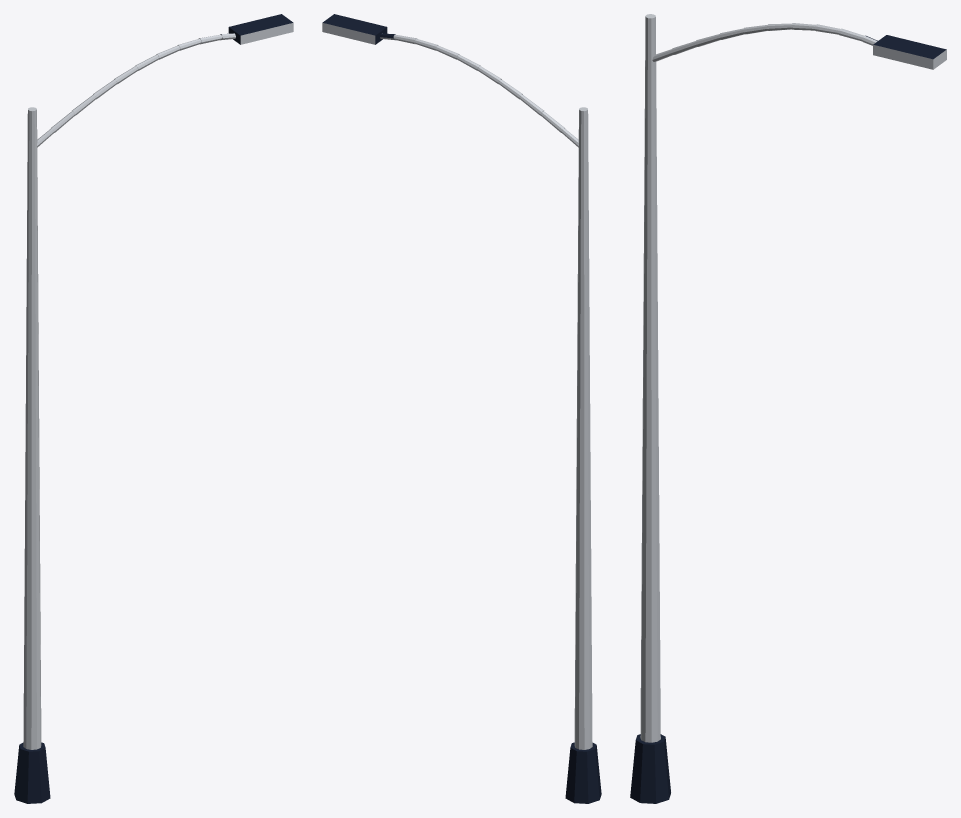
Rendered from highway_cobra_light_single.glb.
The picture shows the model from 3 angles, left to right: view 1: azimuth 30°, elevation 25°; view 2: azimuth 150°, elevation 25°; view 3: azimuth 330°, elevation 25°; orthographic projection. The views are drawn at different scales.
Parts seen in each view (by area): view 1: HighwayLight; view 2: HighwayLight; view 3: HighwayLight.
Boxes of the visible parts, bbox=[...] form: HighwayLight: bbox=[14, 14, 293, 803]; HighwayLight: bbox=[322, 14, 601, 803]; HighwayLight: bbox=[630, 14, 946, 803].
Bounding box in the file's own units: 3.68 × 9.29 × 0.44.
